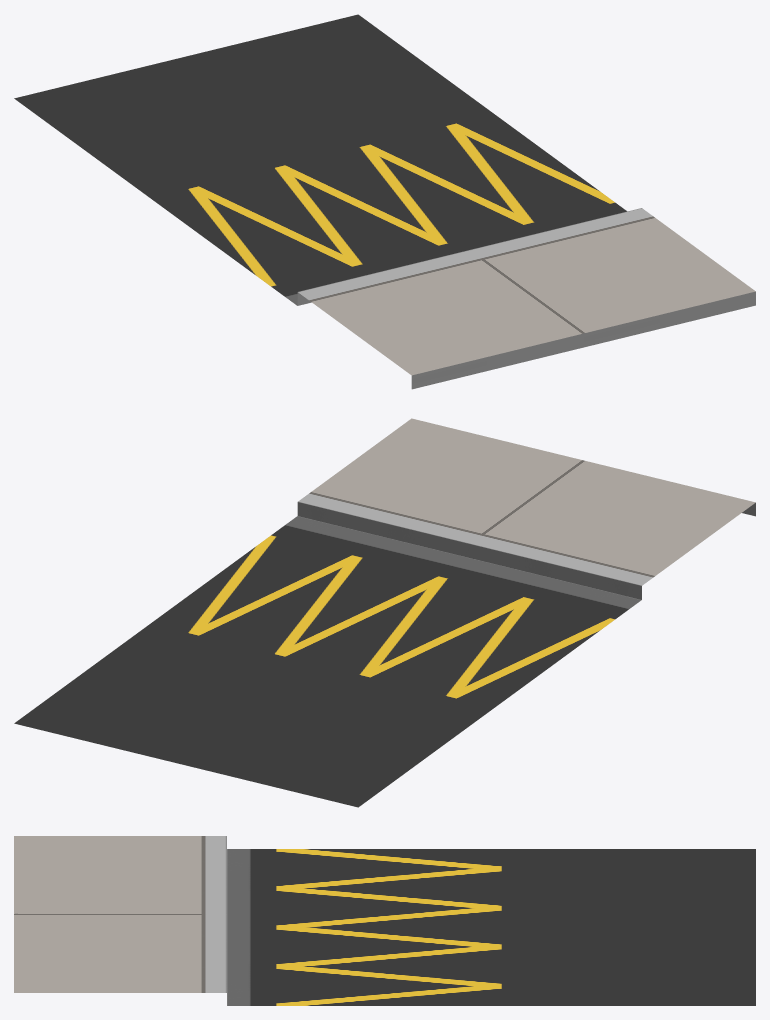
The model's file is road_bus_mesh.FBX.
The picture shows the model from 3 angles, top to bottom: view 1: azimuth 30°, elevation 25°; view 2: azimuth 150°, elevation 25°; view 3: azimuth 270°, elevation 25°; orthographic projection. The views are drawn at different scales.
Visible parts, largest first — view 1: road_bus_mesh; view 2: road_bus_mesh; view 3: road_bus_mesh.
Part boxes in pixels (x1=…): road_bus_mesh: x1=14, y1=14, x2=755, y2=389; road_bus_mesh: x1=14, y1=418, x2=755, y2=807; road_bus_mesh: x1=14, y1=836, x2=755, y2=1005.
Size of the model in its own units: 5 by 10 by 0.1948.
Materials: 1 (1 with a texture image).
